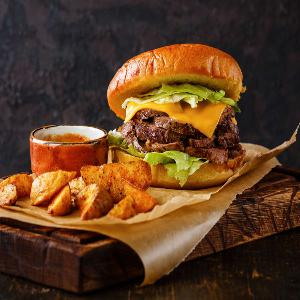cheeseburger_475cal: (103, 33, 255, 201)
fries_350cal: (1, 156, 169, 236)
